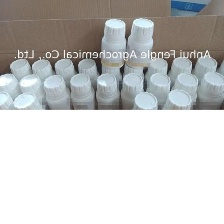insecticide: (157, 87, 195, 143), (168, 69, 200, 128), (126, 89, 163, 140), (123, 16, 157, 70), (185, 53, 220, 105), (193, 69, 224, 126), (15, 72, 48, 125), (142, 71, 173, 127), (119, 71, 149, 127), (28, 57, 62, 106), (68, 72, 99, 125), (6, 56, 40, 103), (99, 16, 128, 71), (42, 73, 72, 126), (92, 72, 122, 125), (163, 52, 195, 98), (0, 69, 27, 123), (139, 55, 170, 101), (52, 55, 79, 102), (13, 92, 45, 128), (76, 57, 100, 99), (0, 87, 18, 134)
